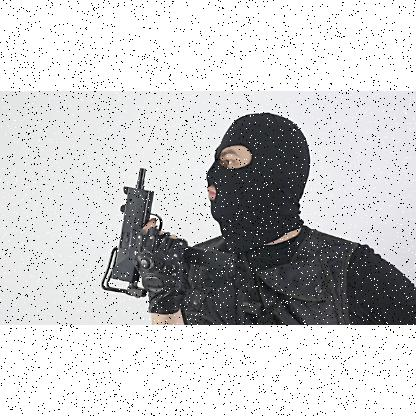gun: (99, 162, 236, 304)
